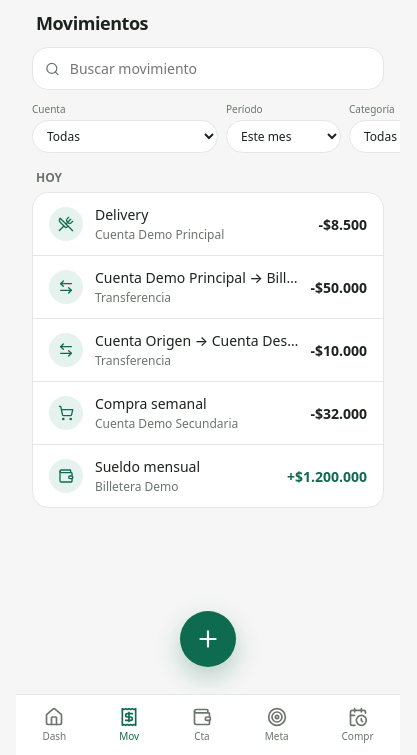
Test: MovementsPage › closes detail and returns to the movement list
The width and height of the screenshot is (417, 755).
Click the button with aria-label "Ver detalle de Compra semanal": (208, 412) [33,381,383,444]
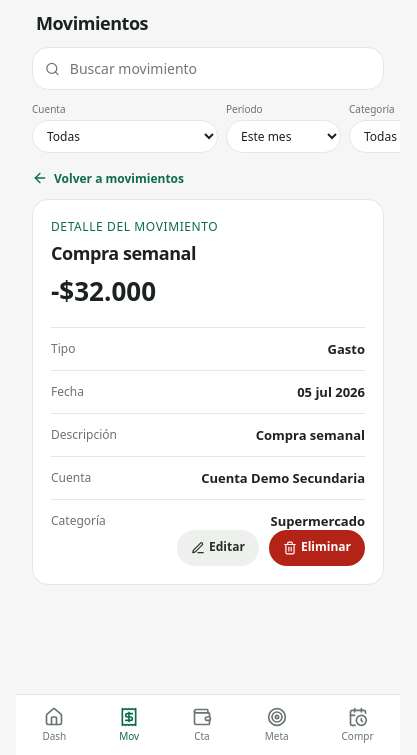
Now the element "Compra semanal" is shown, box [32,169,384,584]
Click the button "Volver a movimientos": (108, 178) [32,170,184,186]
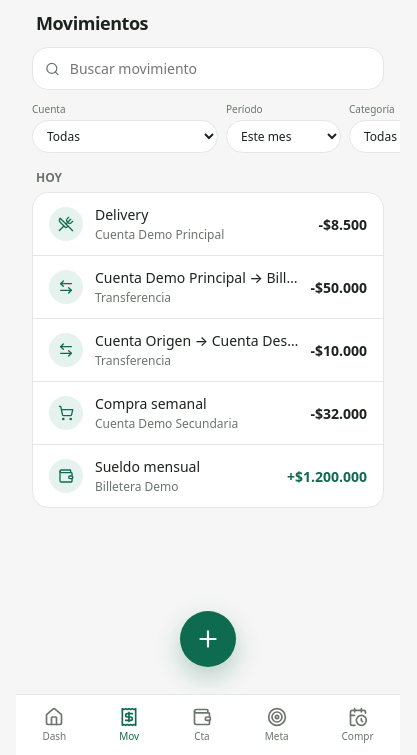
Now the button with aria-label "Ver detalle de Cuenta Demo Principal → Billetera Demo" is shown, box [33,255,383,318]
Now the button with aria-label "Ver detalle de Compra semanal" is shown, box [33,381,383,444]
